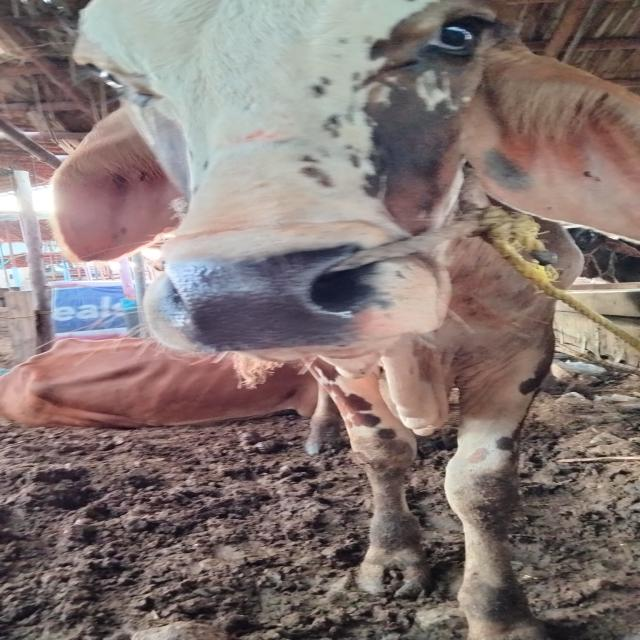muzzles: (150, 245, 402, 352)
